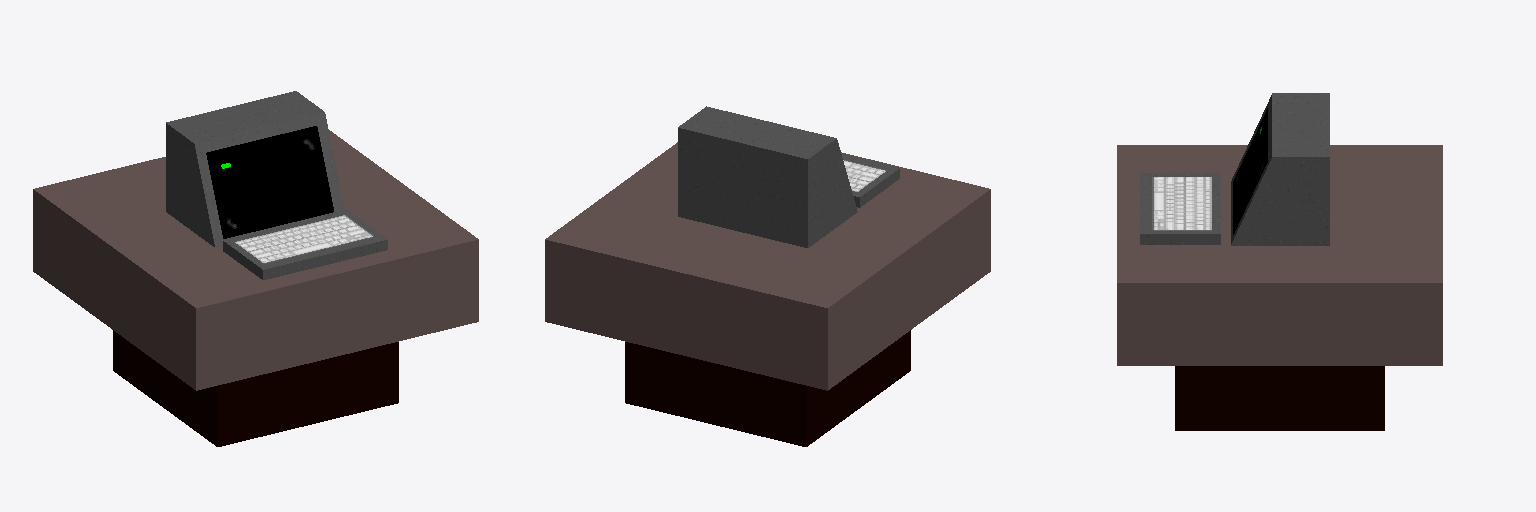
3 renders of one model, left to right at view 1: azimuth 30°, elevation 25°; view 2: azimuth 150°, elevation 25°; view 3: azimuth 270°, elevation 25°, orthographic.
Parts seen in each view (by area): view 1: table, term; view 2: table, term; view 3: table, term.
Part boxes in pixels (left/top/right/bottom): table: left=33, top=130, right=478, bottom=446; term: left=166, top=91, right=387, bottom=279; table: left=545, top=142, right=990, bottom=446; term: left=678, top=106, right=899, bottom=247; table: left=1117, top=145, right=1442, bottom=430; term: left=1140, top=93, right=1329, bottom=245.
Size of the model in its own units: 1 by 0.8846 by 1.
2 materials, 2 textured.